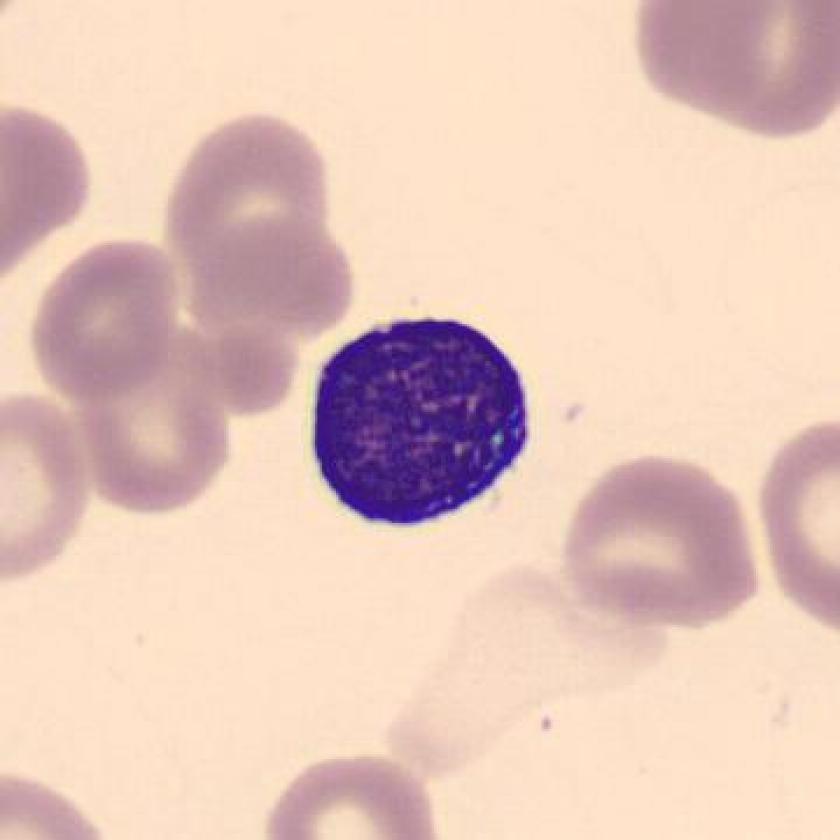lymphocyte: (283, 295, 554, 542)
